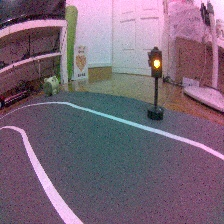amber: (146, 45, 167, 124)
